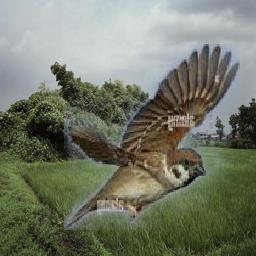Sparrow: (64, 44, 240, 230)
